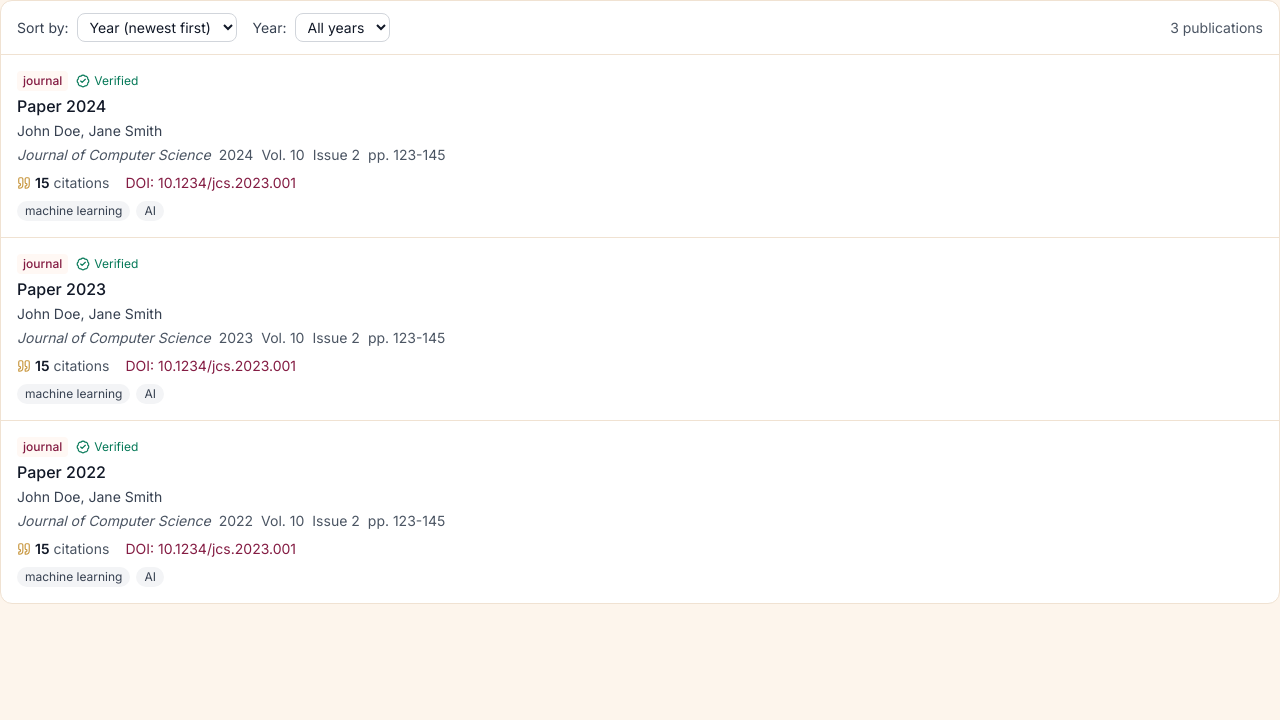
Test: PublicationList Component › Filtering Controls - Requirements 1.3 › should filter publications by selected year
The width and height of the screenshot is (1280, 720).
Select "2023" in the dropdown showing "All years": (342, 28) left=294, top=13, right=390, bottom=42
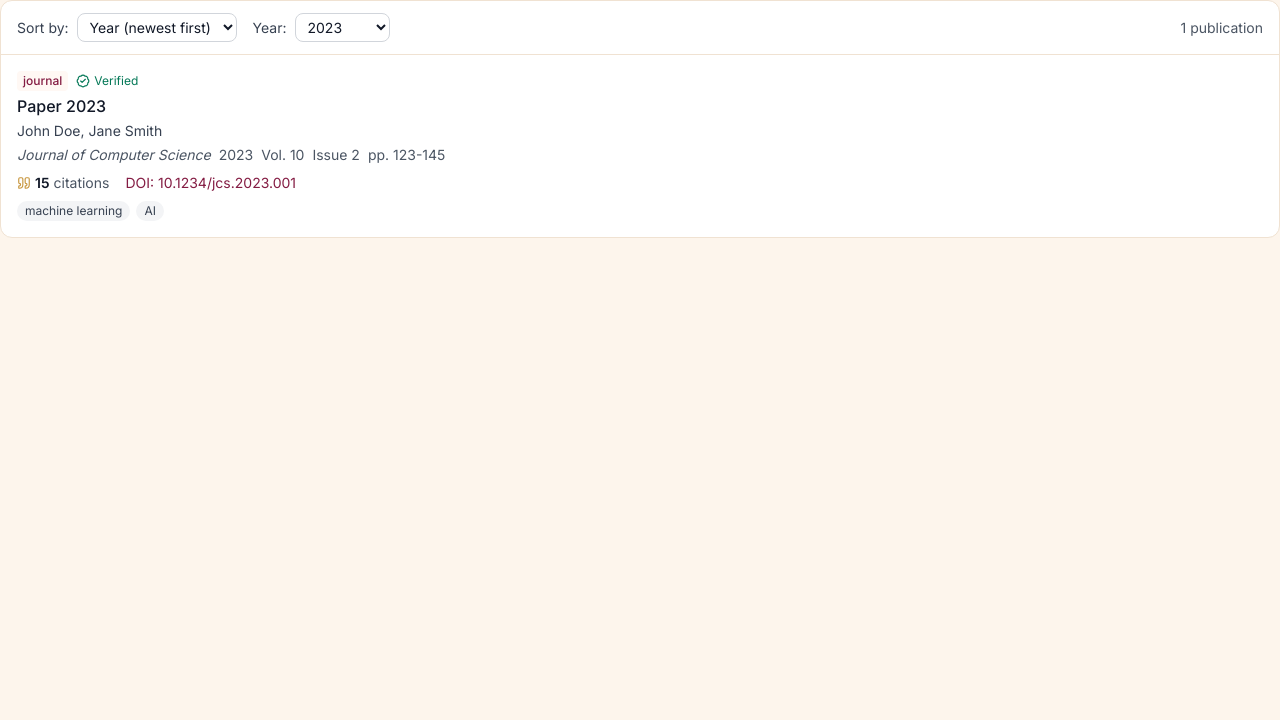
Now the text "1 publication" is shown, box left=1180, top=18, right=1263, bottom=38
Now the link "Paper 2022" is gone
Now the link "Paper 2024" is gone
